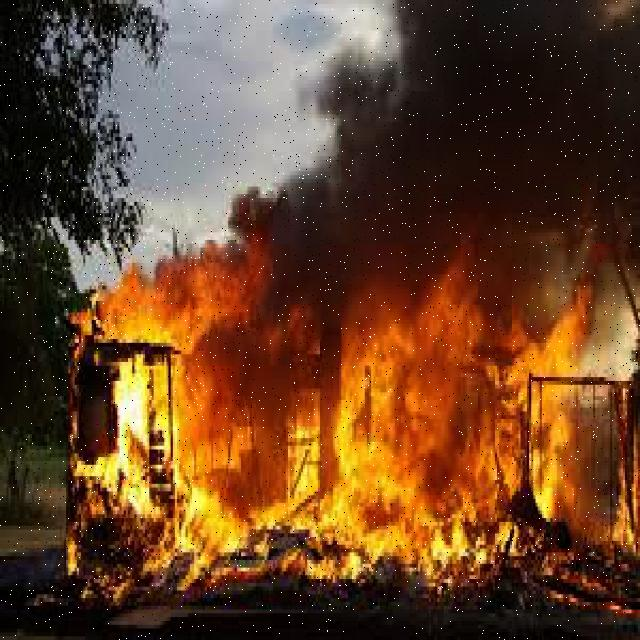fire: (74, 290, 633, 588)
smoke: (246, 9, 640, 256)
